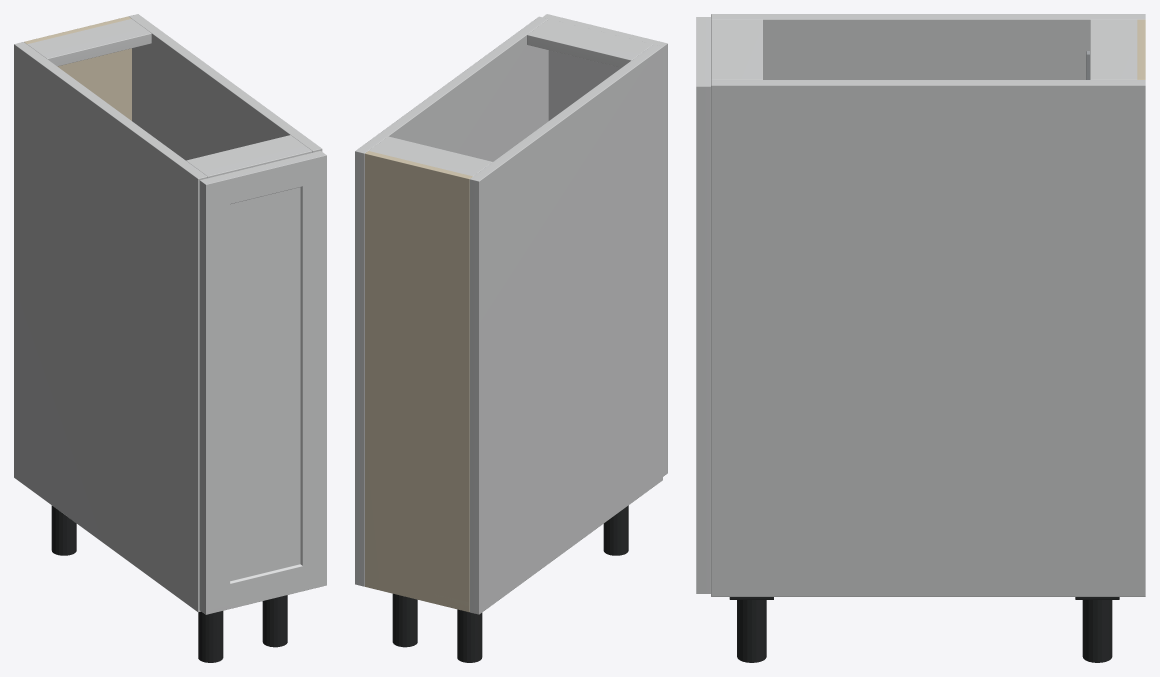
The model's file is PLY-WSS-B09FH.glb.
The picture shows the model from 3 angles, left to right: view 1: azimuth 30°, elevation 25°; view 2: azimuth 150°, elevation 25°; view 3: azimuth 270°, elevation 25°; orthographic projection. The views are drawn at different scales.
Parts seen in each view (by area): view 1: Carcass left, Shaker door, Carcass right, Carcass back, Top support rail, Top support rail.001, Adjustable foot.001, Adjustable foot.003, Adjustable foot; view 2: Carcass left, Carcass back, Carcass right, Shaker door, Top support rail.001, Top support rail, Adjustable foot.002, Adjustable foot, Adjustable foot.001; view 3: Carcass right, Carcass left, Shaker door, Top support rail.001, Top support rail, Adjustable foot.002, Adjustable foot.003.
Boxes of the visible parts, box(x1,y1,x2,y2) form: Carcass left: box(14, 42, 207, 612); Shaker door: box(199, 151, 326, 614); Carcass right: box(129, 14, 322, 160); Carcass back: box(24, 16, 131, 120); Top support rail: box(27, 19, 151, 66); Top support rail.001: box(186, 135, 312, 177); Adjustable foot.001: box(198, 611, 223, 662); Adjustable foot.003: box(262, 595, 287, 647); Adjustable foot: box(51, 505, 76, 555); Carcass left: box(469, 44, 662, 614); Carcass back: box(365, 151, 472, 612); Carcass right: box(355, 16, 548, 586); Shaker door: box(543, 14, 667, 476); Top support rail.001: box(527, 19, 652, 67); Top support rail: box(369, 136, 492, 176); Adjustable foot.002: box(392, 593, 417, 647); Adjustable foot: box(457, 609, 482, 662); Adjustable foot.001: box(603, 505, 628, 555); Carcass right: box(711, 80, 1145, 596); Carcass left: box(711, 14, 1145, 79); Shaker door: box(696, 17, 710, 593); Top support rail.001: box(711, 19, 762, 79); Top support rail: box(1090, 19, 1137, 79); Adjustable foot.002: box(1082, 600, 1112, 662); Adjustable foot.003: box(737, 600, 766, 662).
Size of the model in its own units: 0.2286 by 0.8763 by 0.6064.
